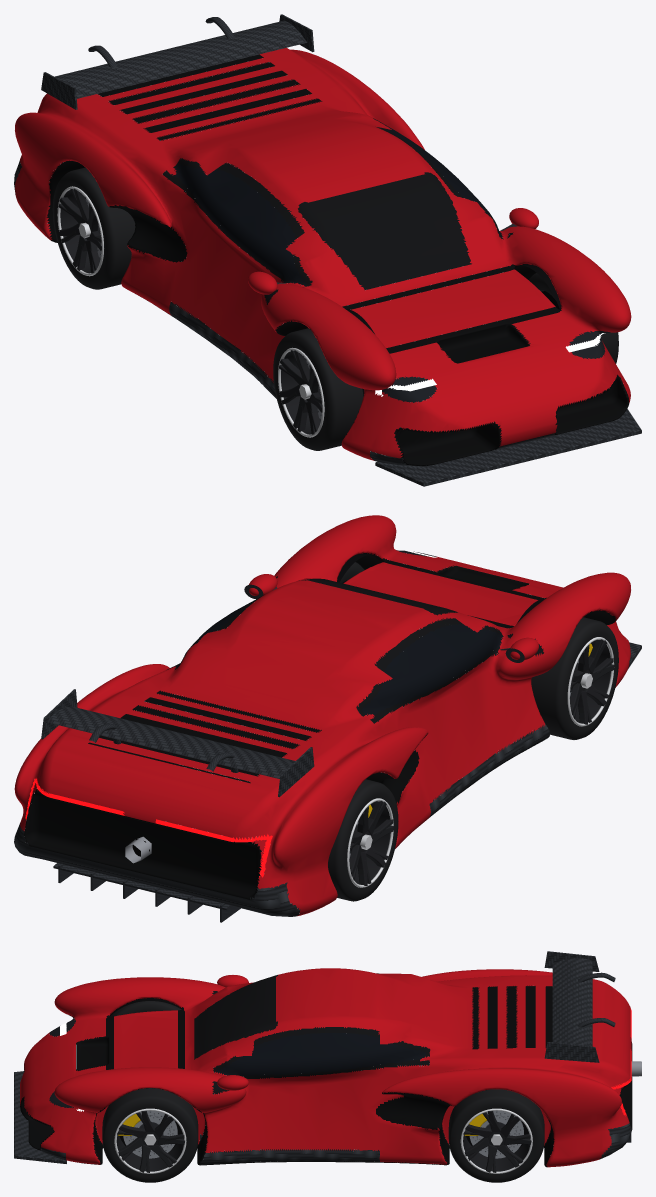
The model's file is optimized_exotic_supercar_v4_LOD0.glb.
3 views of the same model, one above another, from view 1: azimuth 30°, elevation 25°; view 2: azimuth 150°, elevation 25°; view 3: azimuth 270°, elevation 25° (orthographic). The views are drawn at different scales.
Parts seen in each view (by area): view 1: Body_Paint, Intakes_And_Vents, Window_Trim, Active_Rear_Wing, Body_Glass, Front_Splitter, Wheel_FR_Tyre_Mesh, Wheel_RR_Tyre_Mesh, Wheel_FR_Rim_Mesh, Wheel_RR_Rim_Mesh, Body_Carbon, Headlight_Housings (+2 smaller); view 2: Body_Paint, Intakes_And_Vents, Active_Rear_Wing, Body_Glass, Body_Carbon, Wheel_FR_Tyre_Mesh, Window_Trim, Wheel_RR_Tyre_Mesh, Wheel_RR_Rim_Mesh, Wheel_FR_Rim_Mesh, Front_Splitter, Taillight_LEDs (+4 smaller); view 3: Body_Paint, Intakes_And_Vents, Window_Trim, Body_Glass, Active_Rear_Wing, Wheel_FL_Tyre_Mesh, Wheel_RL_Tyre_Mesh, Body_Carbon, Wheel_RL_Rim_Mesh, Wheel_FL_Rim_Mesh, Front_Splitter, Wheel_RL_BrakeDisc_Mesh (+5 smaller).
Part boxes in pixels (x1,y1,x2,y2): Body_Paint: (15, 48, 631, 460); Intakes_And_Vents: (46, 54, 628, 465); Window_Trim: (162, 118, 513, 304); Active_Rear_Wing: (41, 14, 314, 109); Body_Glass: (174, 123, 509, 297); Front_Splitter: (375, 409, 641, 486); Wheel_FR_Tyre_Mesh: (273, 328, 363, 450); Wheel_RR_Tyre_Mesh: (52, 167, 135, 289); Wheel_FR_Rim_Mesh: (279, 350, 322, 434); Wheel_RR_Rim_Mesh: (58, 188, 101, 273); Body_Carbon: (14, 160, 629, 466); Headlight_Housings: (382, 331, 616, 402); Body_Paint: (14, 515, 630, 916); Intakes_And_Vents: (24, 553, 628, 899); Active_Rear_Wing: (41, 689, 314, 797); Body_Glass: (175, 599, 510, 715); Body_Carbon: (14, 660, 629, 916); Wheel_FR_Tyre_Mesh: (531, 617, 618, 739); Window_Trim: (167, 576, 543, 723); Wheel_RR_Tyre_Mesh: (328, 779, 398, 901); Wheel_RR_Rim_Mesh: (349, 800, 393, 885); Wheel_FR_Rim_Mesh: (570, 639, 614, 724); Front_Splitter: (53, 628, 641, 922); Taillight_LEDs: (25, 778, 272, 877); Body_Paint: (20, 968, 631, 1167); Intakes_And_Vents: (20, 985, 632, 1167); Window_Trim: (194, 973, 430, 1094); Body_Glass: (216, 973, 426, 1089); Active_Rear_Wing: (544, 951, 615, 1062); Wheel_FL_Tyre_Mesh: (102, 1088, 198, 1182); Wheel_RL_Tyre_Mesh: (448, 1089, 544, 1182); Body_Carbon: (38, 1044, 632, 1164); Wheel_RL_Rim_Mesh: (463, 1111, 531, 1172); Wheel_FL_Rim_Mesh: (116, 1111, 184, 1172); Front_Splitter: (14, 1071, 631, 1163); Wheel_RL_BrakeDisc_Mesh: (469, 1110, 523, 1158).
Size of the model in its own units: 1.99 by 1.13 by 4.71.
15 materials, 2 textured.
